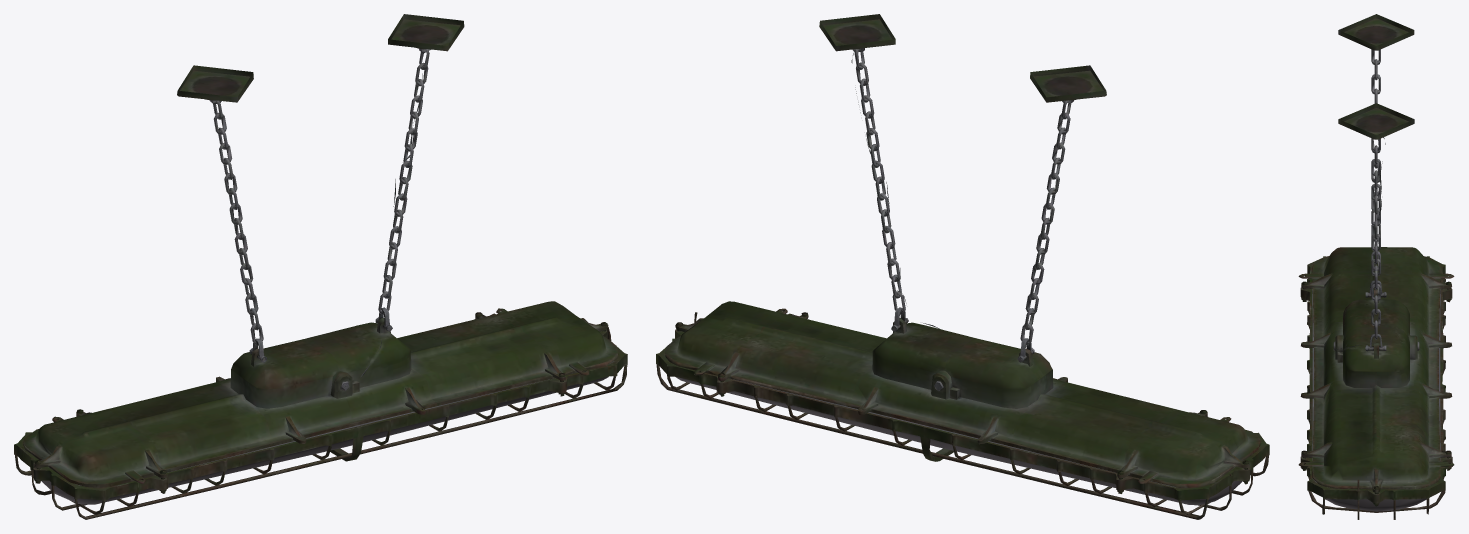
The model's file is caged_hanging_light.glb.
The picture shows the model from 3 angles, left to right: view 1: azimuth 30°, elevation 25°; view 2: azimuth 150°, elevation 25°; view 3: azimuth 270°, elevation 25°; orthographic projection. The views are drawn at different scales.
Parts seen in each view (by area): view 1: caged_hanging_light; view 2: caged_hanging_light; view 3: caged_hanging_light.
Part boxes in pixels (box(x1,y1,x2,y2)): caged_hanging_light: box(14, 14, 627, 519); caged_hanging_light: box(656, 14, 1269, 519); caged_hanging_light: box(1298, 14, 1454, 519).
Size of the model in its own units: 1.16 by 0.7501 by 0.3149.
1 material, 1 textured.
